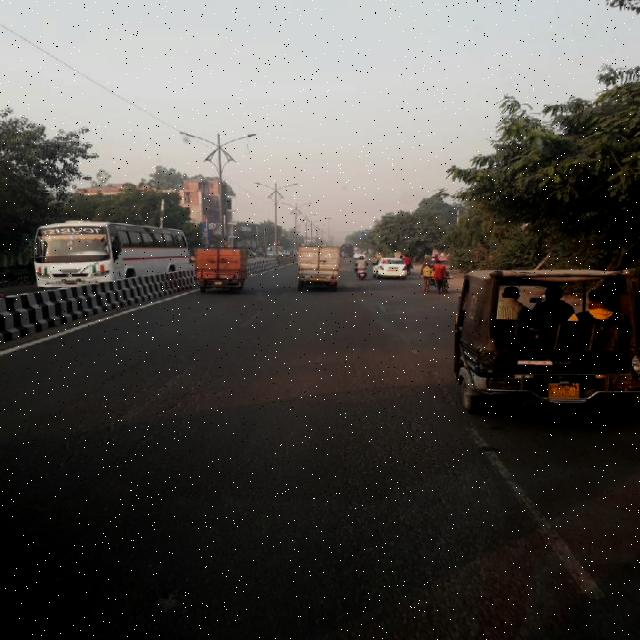D00: (21, 343, 198, 444)
D20: (1, 365, 478, 627)
D44: (455, 406, 625, 612)
